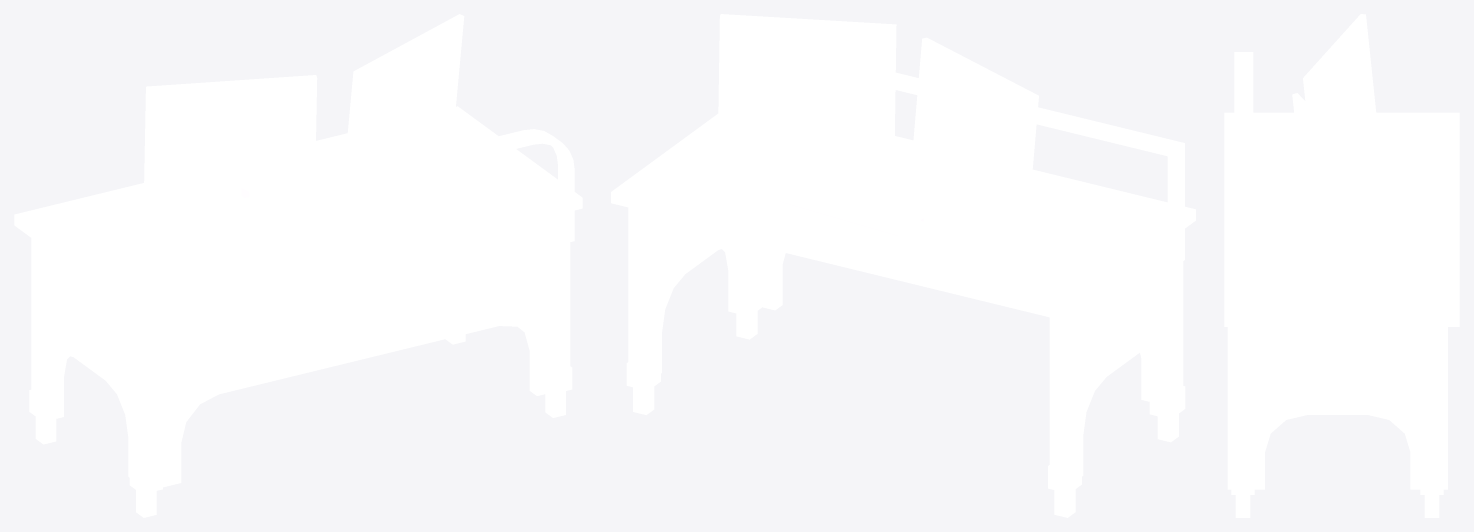
Rendered from Office_Assets_Desk_Screens.glb.
3 views of the same model, side by side, from view 1: azimuth 30°, elevation 25°; view 2: azimuth 150°, elevation 25°; view 3: azimuth 270°, elevation 25° (orthographic). The views are drawn at different scales.
Visible parts, largest first — view 1: Desk_Screens; view 2: Desk_Screens; view 3: Desk_Screens.
Part boxes in pixels (bbox=[...]): Desk_Screens: bbox=[14, 14, 582, 517]; Desk_Screens: bbox=[611, 14, 1195, 517]; Desk_Screens: bbox=[1224, 14, 1459, 517].
Bounding box in the file's own units: 1.96 × 1.54 × 0.9561.
